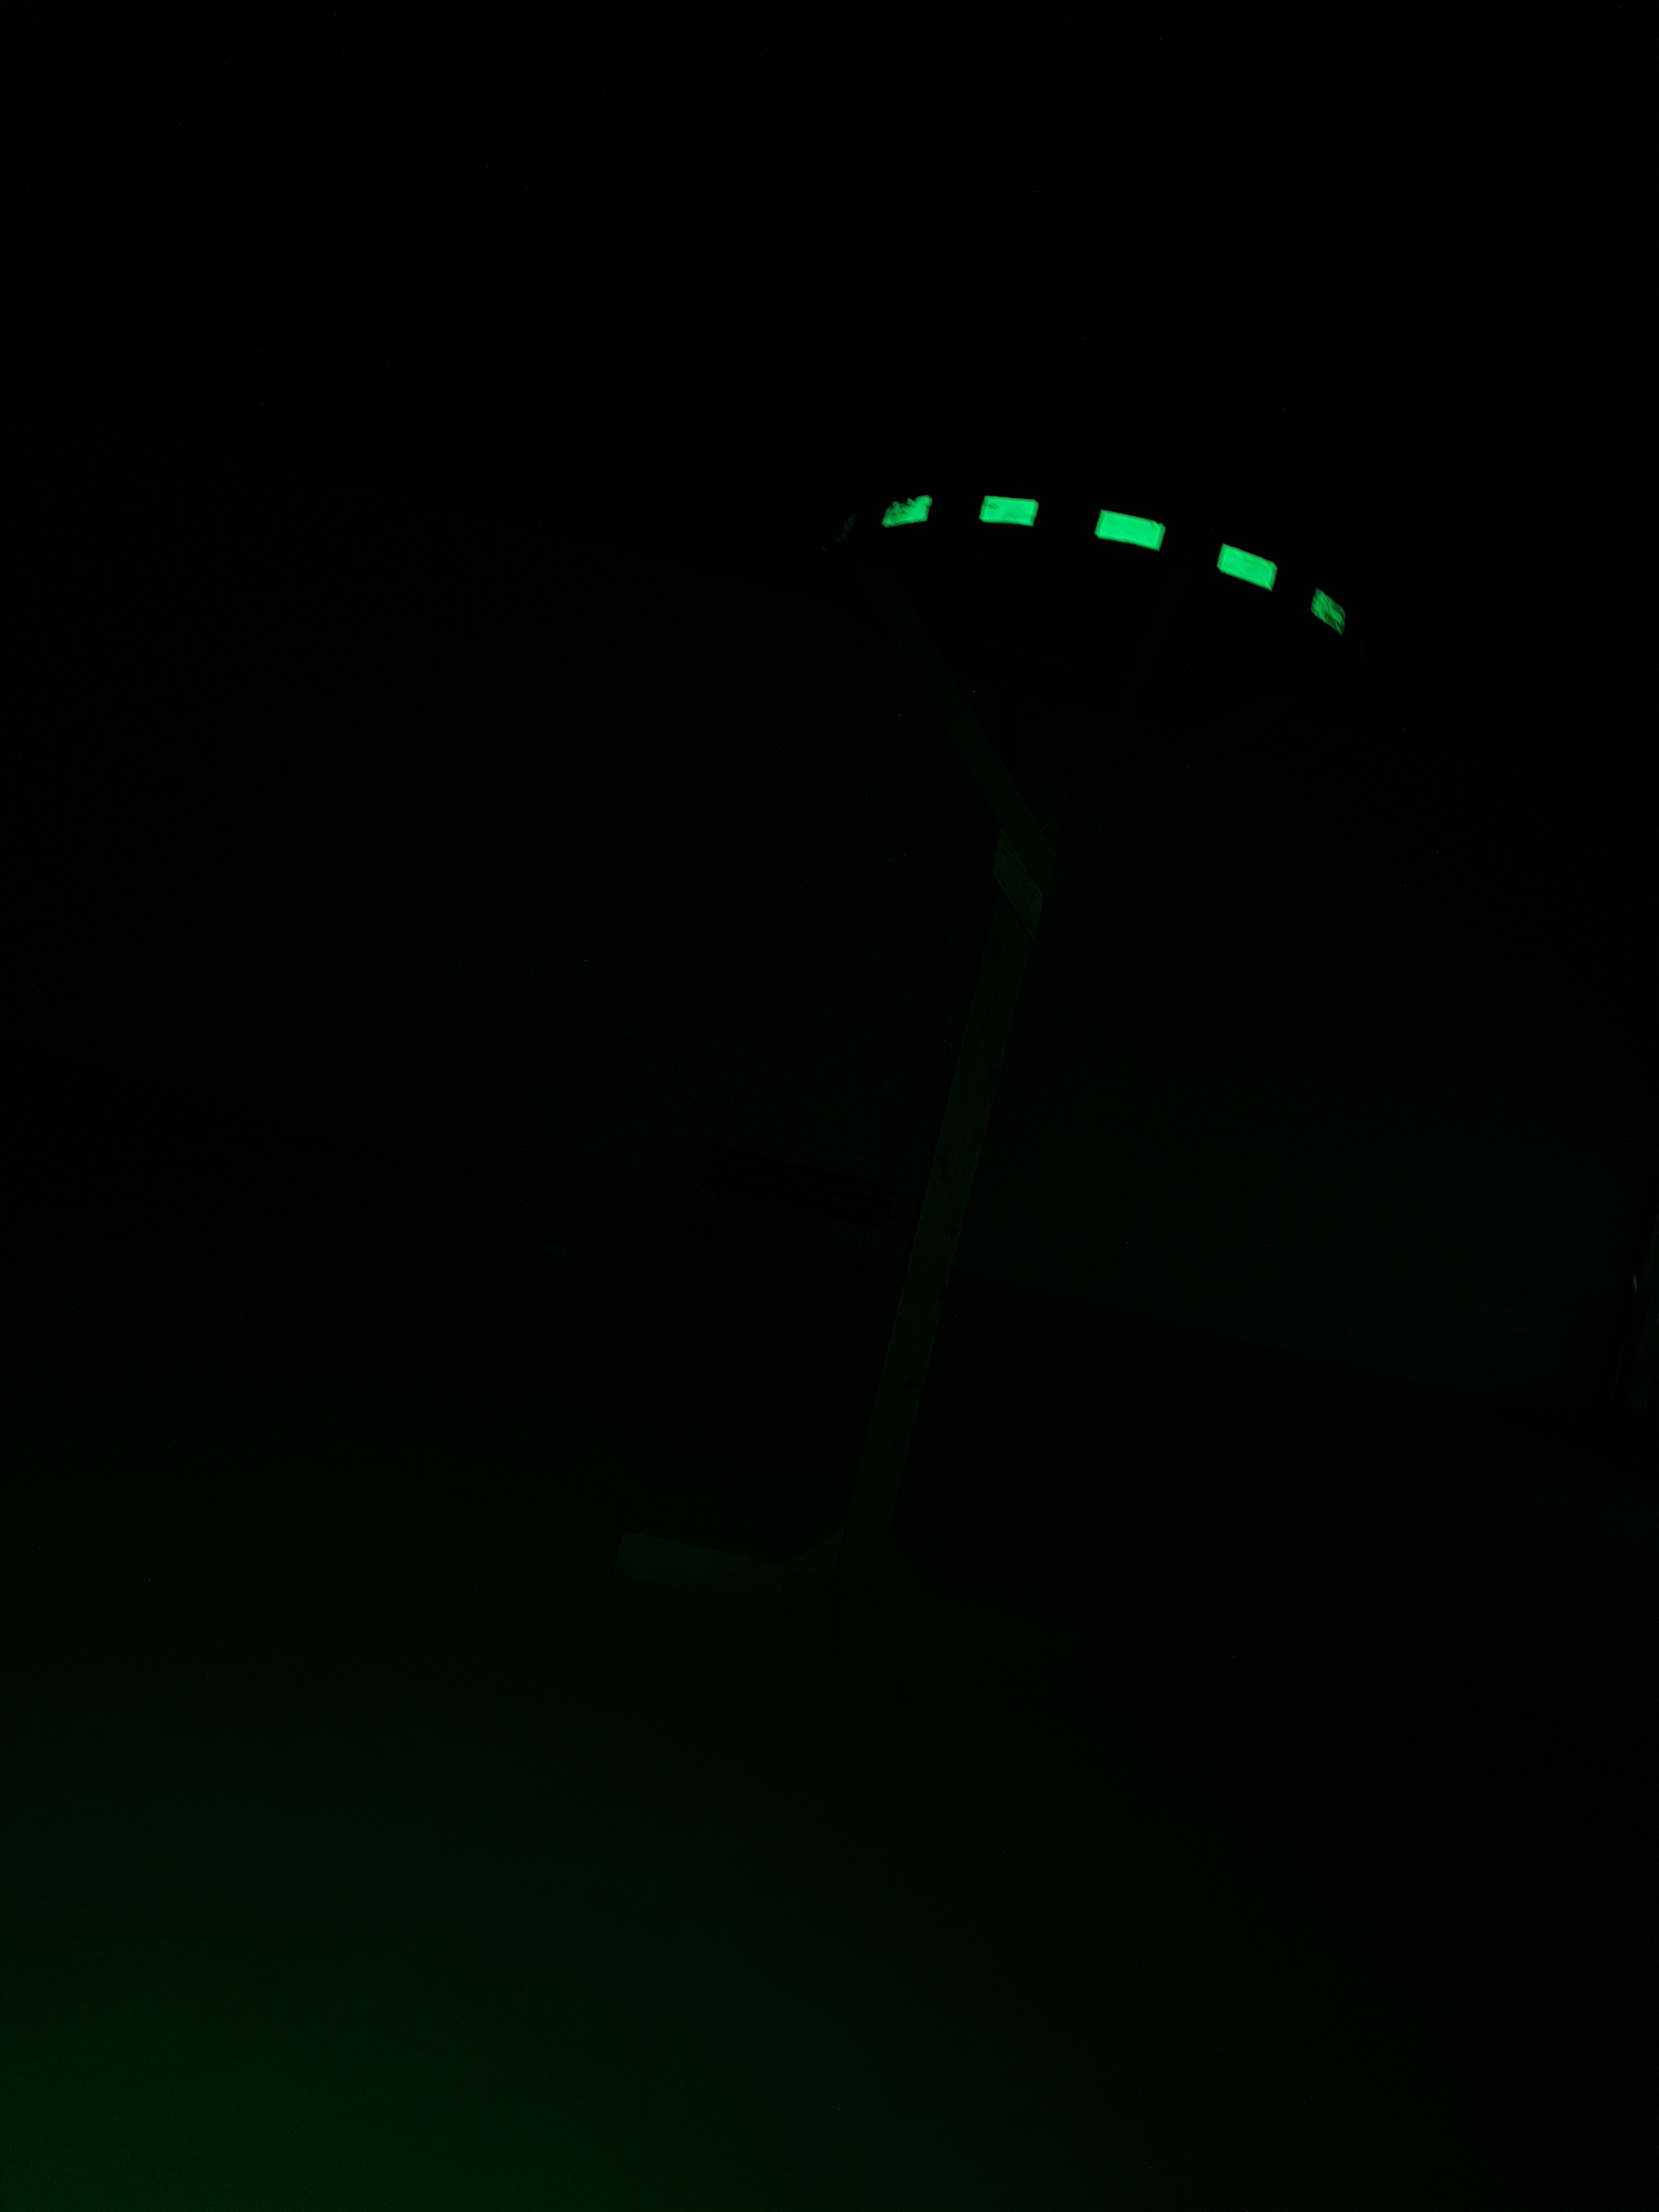hoop: (880, 488, 1345, 641)
